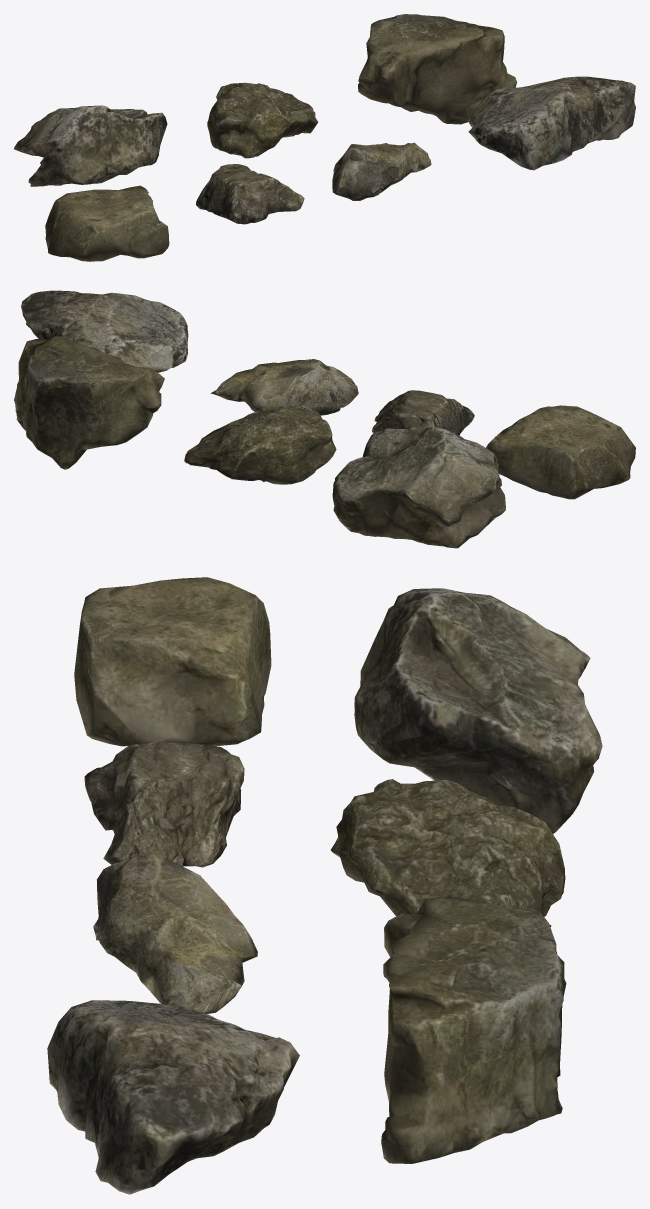
Rendered from rock_moss_set_02.glb.
3 renders of one model, top to bottom at view 1: azimuth 30°, elevation 25°; view 2: azimuth 150°, elevation 25°; view 3: azimuth 270°, elevation 25°, orthographic. The views are drawn at different scales.
Parts seen in each view (by area): view 1: rock_moss_set_02_rock08; view 2: rock_moss_set_02_rock08; view 3: rock_moss_set_02_rock08.
Part boxes in pixels (x1=…): rock_moss_set_02_rock08: x1=14, y1=14, x2=635, y2=261; rock_moss_set_02_rock08: x1=14, y1=290, x2=635, y2=548; rock_moss_set_02_rock08: x1=47, y1=577, x2=602, y2=1194.
Size of the model in its own units: 8.28 by 1.36 by 3.41.
1 material, 1 textured.
